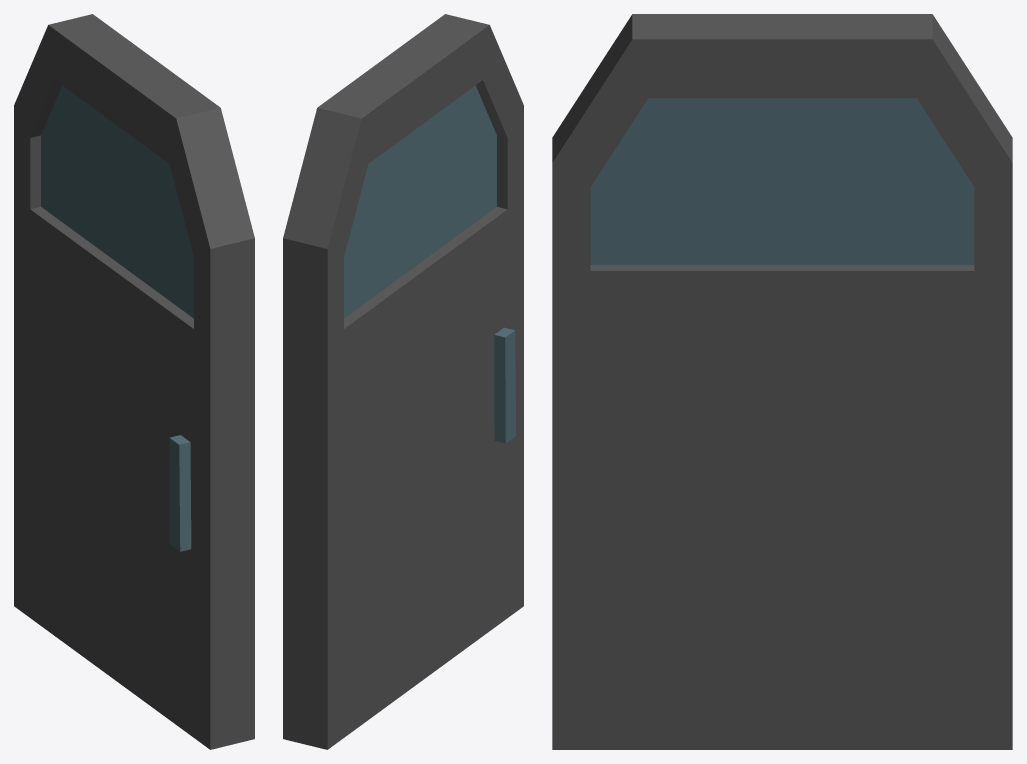
Rendered from PaintedDoor 1.fbx.
The picture shows the model from 3 angles, left to right: view 1: azimuth 30°, elevation 25°; view 2: azimuth 150°, elevation 25°; view 3: azimuth 270°, elevation 25°; orthographic projection. The views are drawn at different scales.
Visible parts, largest first — view 1: door; view 2: door; view 3: door.
Part boxes in pixels (x1=…): door: x1=14, y1=14, x2=254, y2=749; door: x1=283, y1=14, x2=523, y2=749; door: x1=552, y1=14, x2=1012, y2=749.
Size of the model in its own units: 41.47 by 431 by 253.
